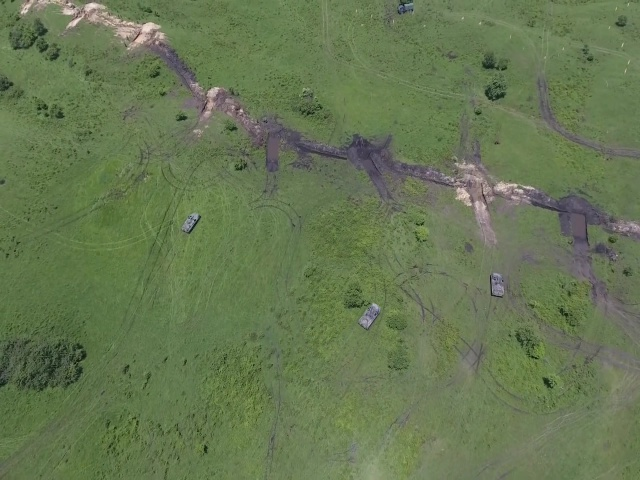vehicle: (356, 301, 383, 330), (488, 271, 506, 298), (181, 211, 203, 233), (395, 1, 416, 14)
